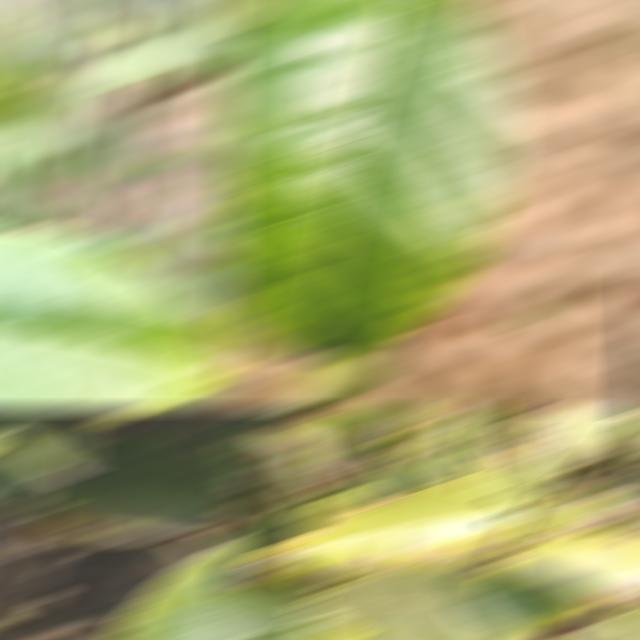Leaf: (221, 3, 519, 356), (0, 231, 229, 406), (246, 482, 517, 577), (291, 563, 609, 637), (35, 434, 239, 536), (513, 530, 640, 592), (272, 349, 400, 406), (304, 412, 399, 488), (74, 42, 193, 96), (348, 442, 457, 495), (509, 490, 606, 545), (0, 427, 94, 482), (254, 425, 332, 480), (0, 125, 78, 177), (432, 412, 491, 478), (473, 457, 558, 500), (70, 126, 141, 177), (0, 11, 27, 117), (154, 24, 230, 61), (0, 444, 44, 507), (221, 526, 256, 585), (0, 171, 33, 228), (221, 412, 282, 439), (477, 415, 510, 452)
